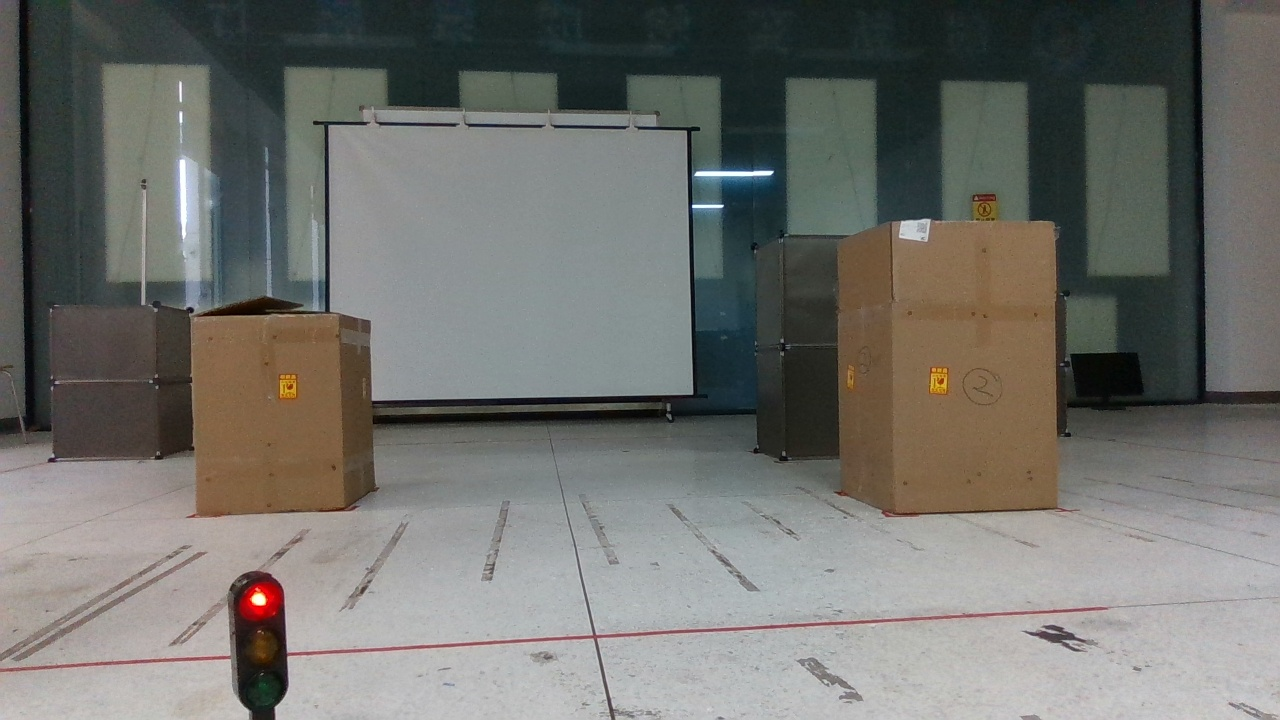red_light: (216, 564, 311, 720)
